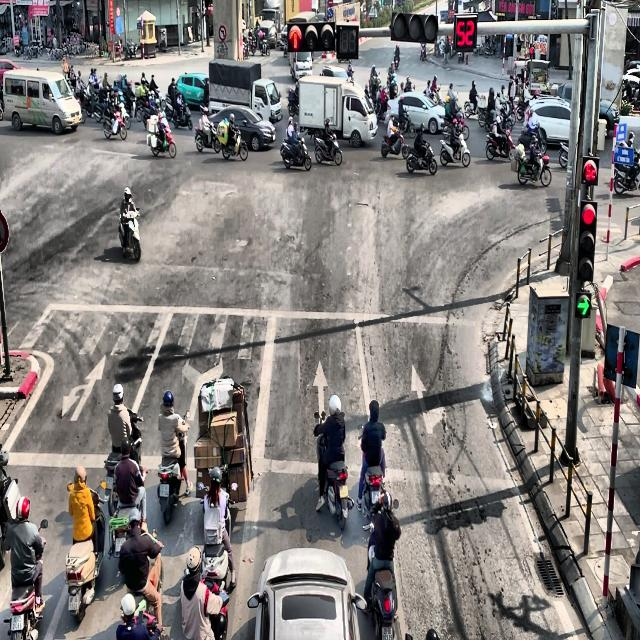CAR: (247, 546, 367, 640), (207, 105, 276, 152), (384, 92, 447, 134), (175, 72, 209, 110)
MOTORBIKE: (64, 485, 107, 623), (3, 520, 48, 639), (362, 522, 398, 638), (157, 410, 190, 525), (108, 466, 148, 558), (316, 434, 354, 530), (357, 424, 388, 517), (0, 445, 21, 567), (517, 148, 551, 186), (118, 208, 141, 262), (402, 140, 437, 175), (147, 116, 176, 158), (613, 149, 640, 194), (280, 132, 311, 171), (439, 130, 471, 167), (485, 126, 516, 160), (314, 132, 342, 166), (221, 126, 248, 160), (195, 121, 221, 153), (103, 107, 127, 140), (381, 128, 406, 158), (392, 110, 415, 136), (386, 74, 398, 99), (428, 85, 442, 105), (558, 141, 568, 167), (260, 38, 270, 56), (393, 49, 400, 69)
TRAFFIC_LIGHT: (576, 154, 599, 282), (389, 10, 439, 42), (286, 20, 336, 52), (453, 13, 478, 51)
TRUCK: (298, 74, 378, 147), (208, 58, 283, 124)
